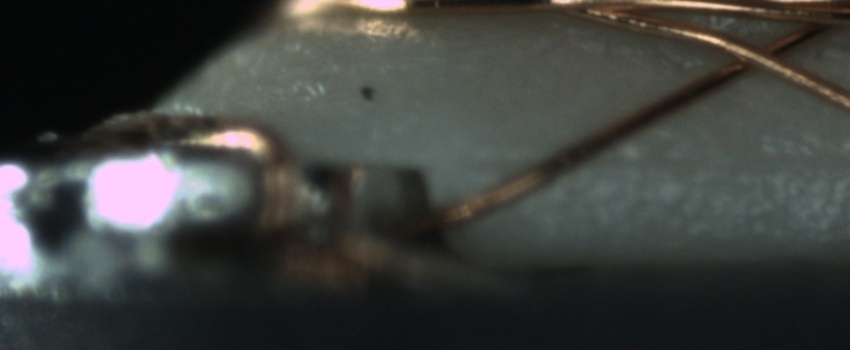CL: (715, 32, 804, 81)
DL: (484, 132, 849, 196)
TE: (162, 109, 295, 246)
